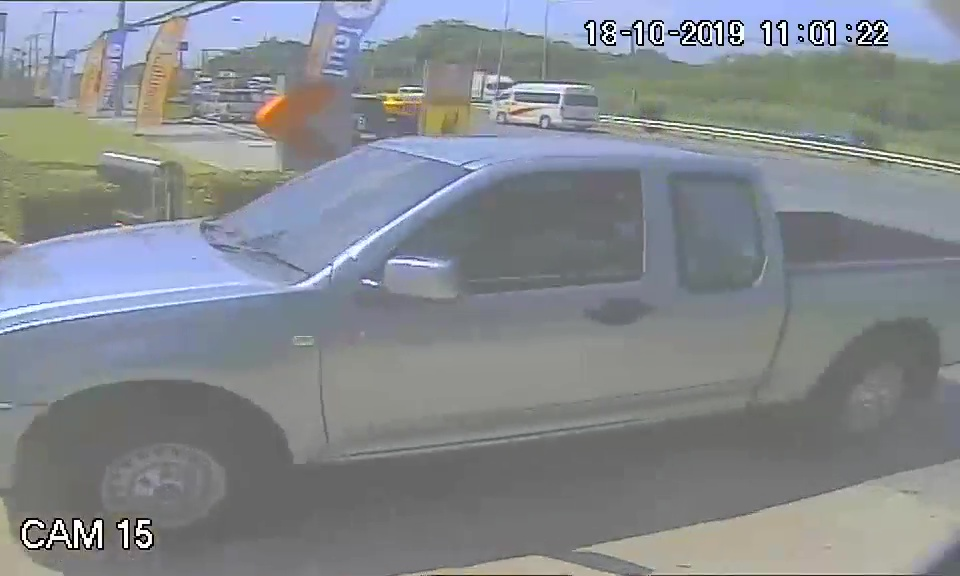pickup: (8, 132, 960, 506)
